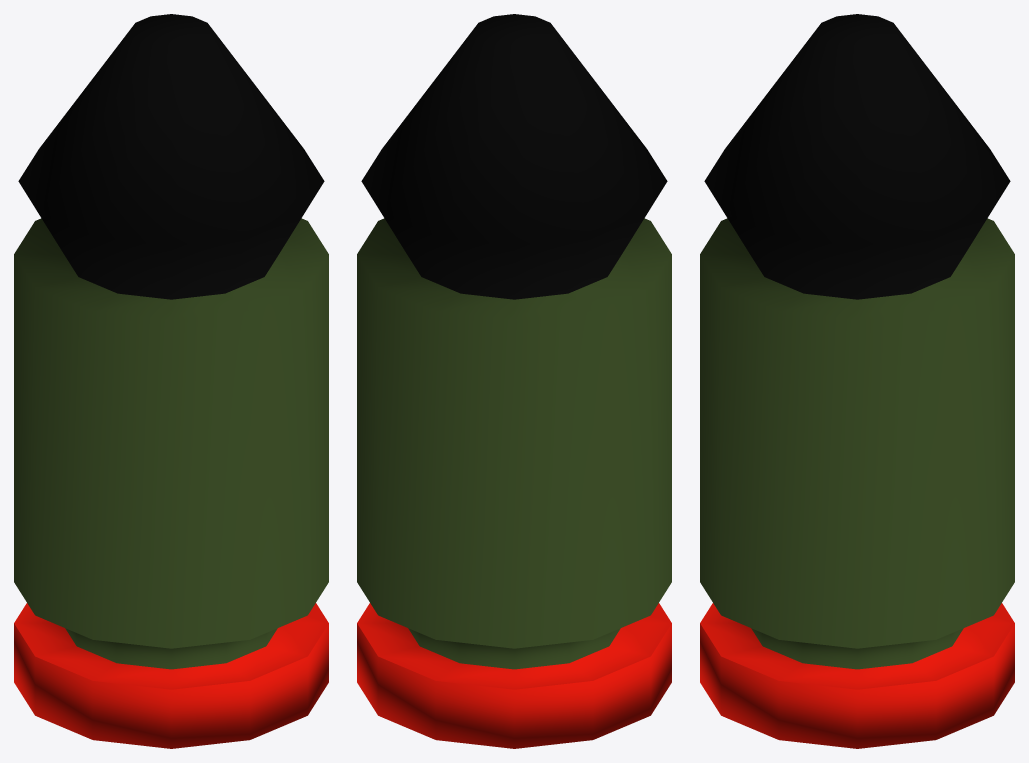
The model's file is obus.fbx.
3 renders of one model, left to right at view 1: azimuth 30°, elevation 25°; view 2: azimuth 150°, elevation 25°; view 3: azimuth 270°, elevation 25°, orthographic.
Parts seen in each view (by area): view 1: red; view 2: red; view 3: red.
Part boxes in pixels (bbox=[...]): red: bbox=[14, 14, 328, 748]; red: bbox=[357, 14, 671, 748]; red: bbox=[700, 14, 1014, 748].
Bounding box in the file's own units: 100 × 228 × 100.
